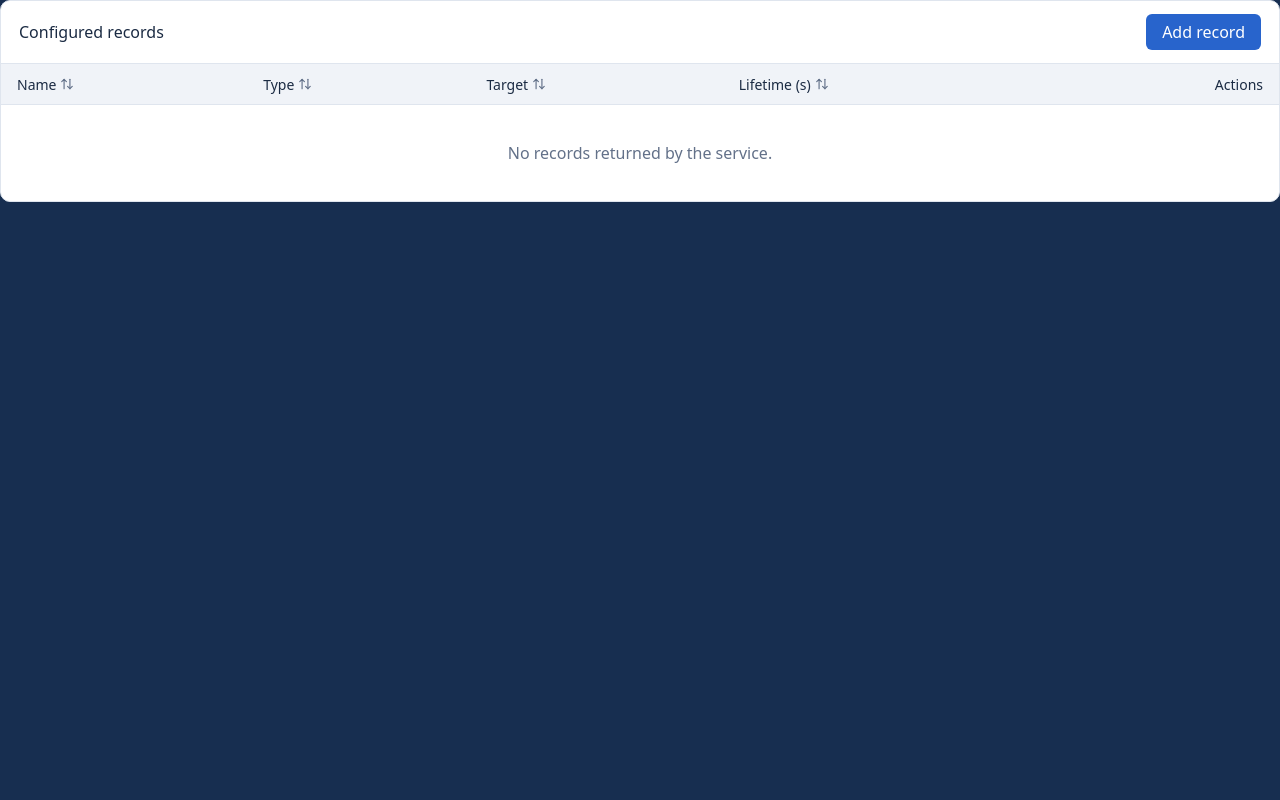
keeps the DNS record when dashboard approval is declined
This screenshot has width=1280, height=800.
Click the button "Add record": (1204, 32) [1146, 14, 1261, 50]
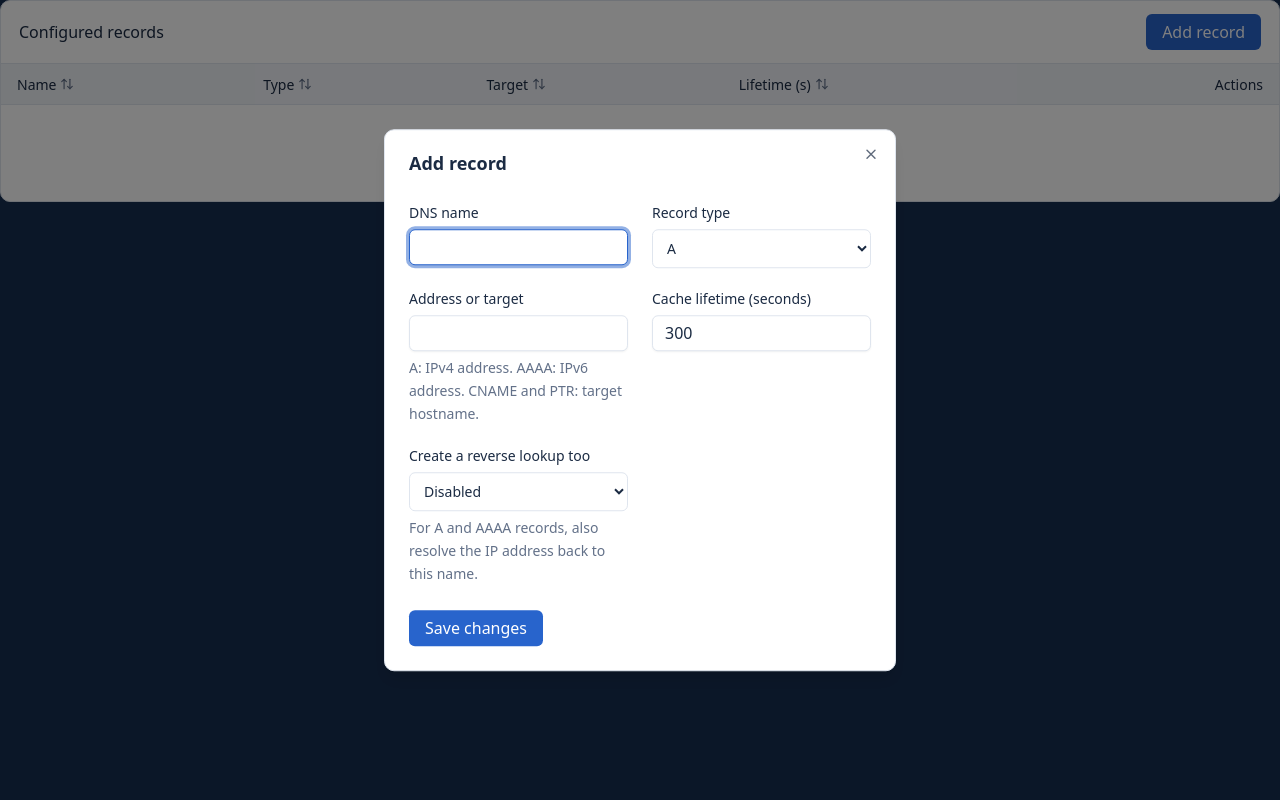
In the field labelled "DNS name": (518, 247) [409, 229, 628, 265], type "dimsum.test"
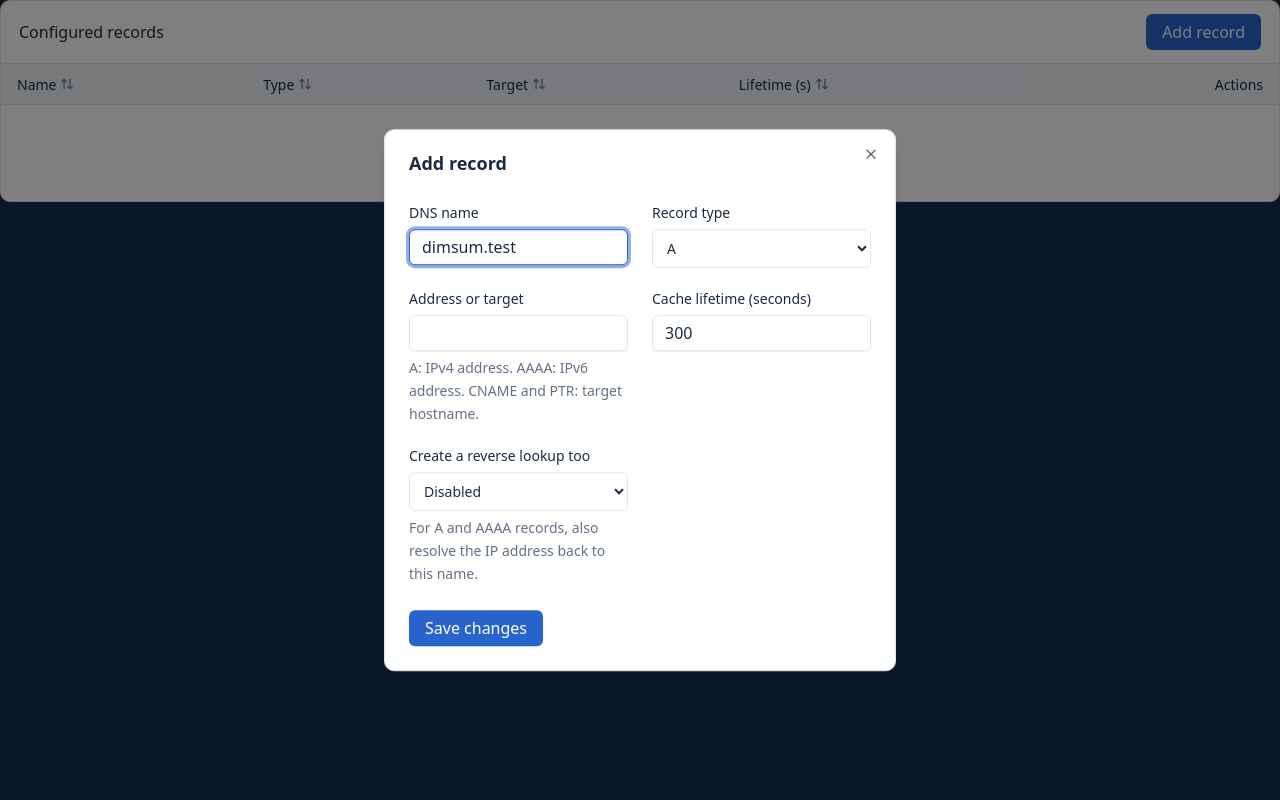
In the field labelled "Address or target": (518, 333) [409, 315, 628, 351], type "192.0.2.10"
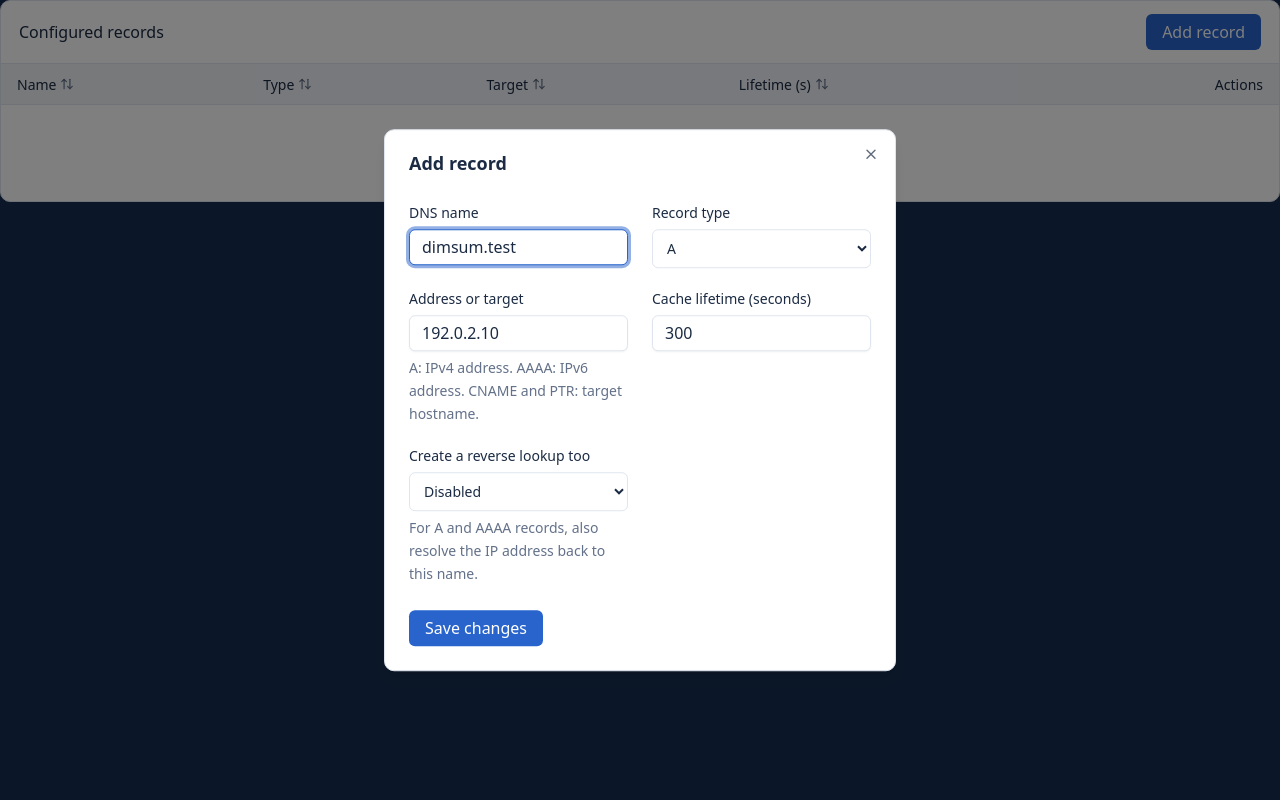
Click the button "Save changes": (476, 628) [409, 610, 543, 646]
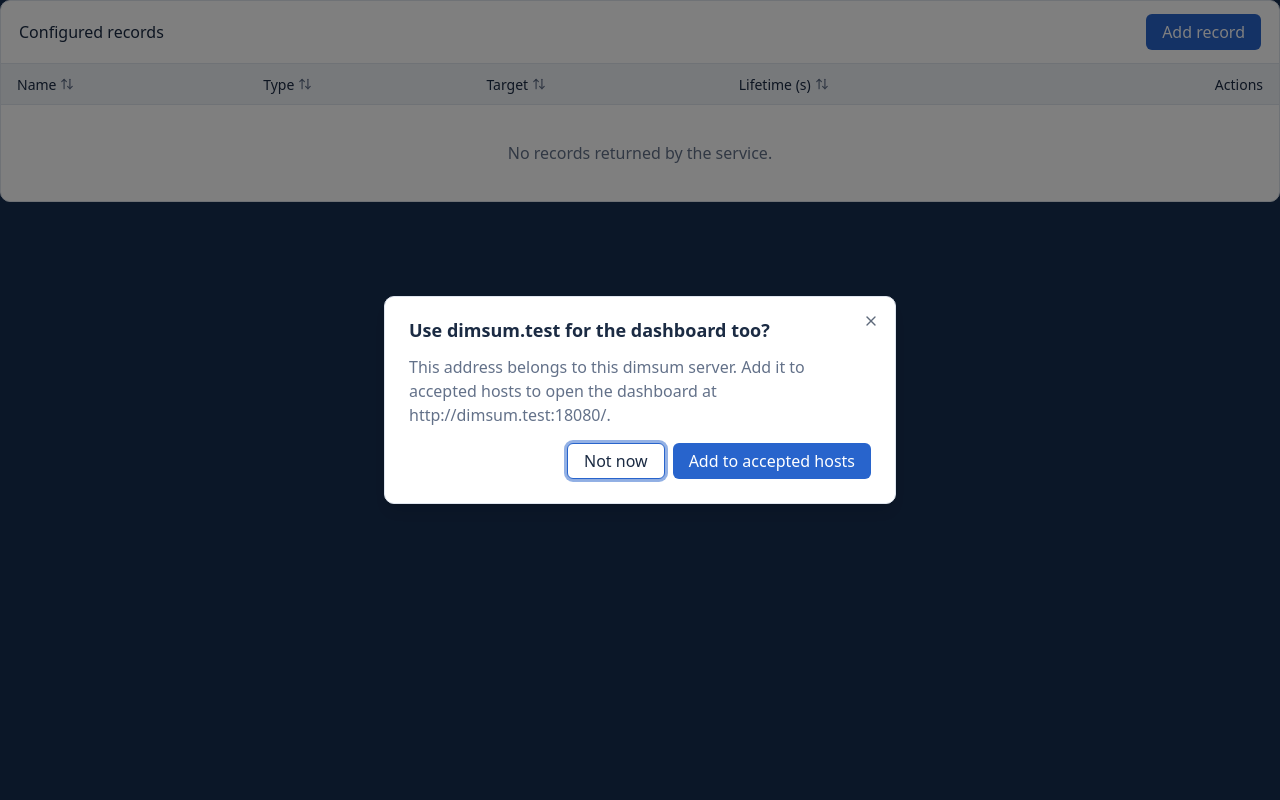
Click the button "Not now": (616, 461) [567, 443, 665, 479]
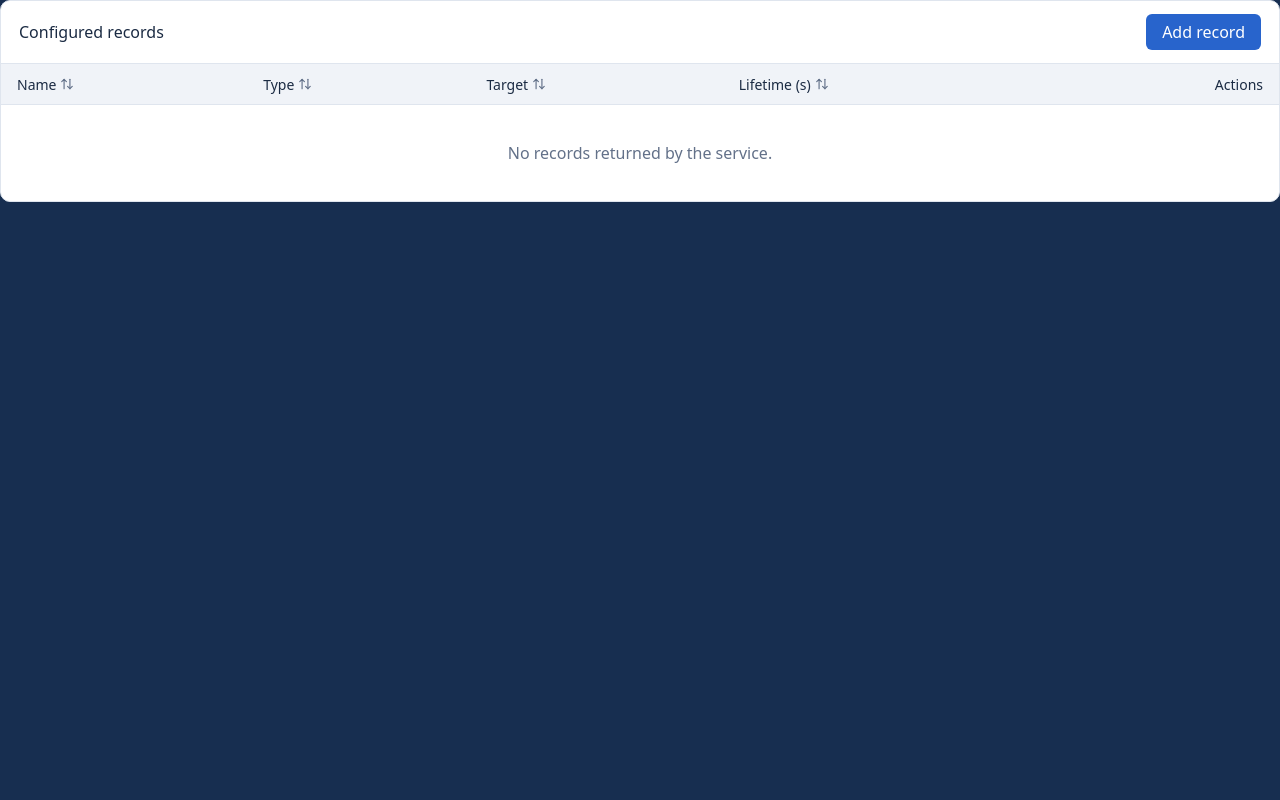
expect the dialog is gone: met
